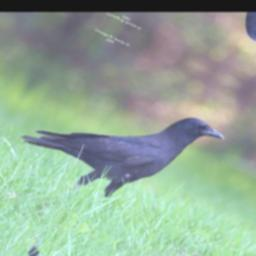Crow: (2, 59, 229, 234)
